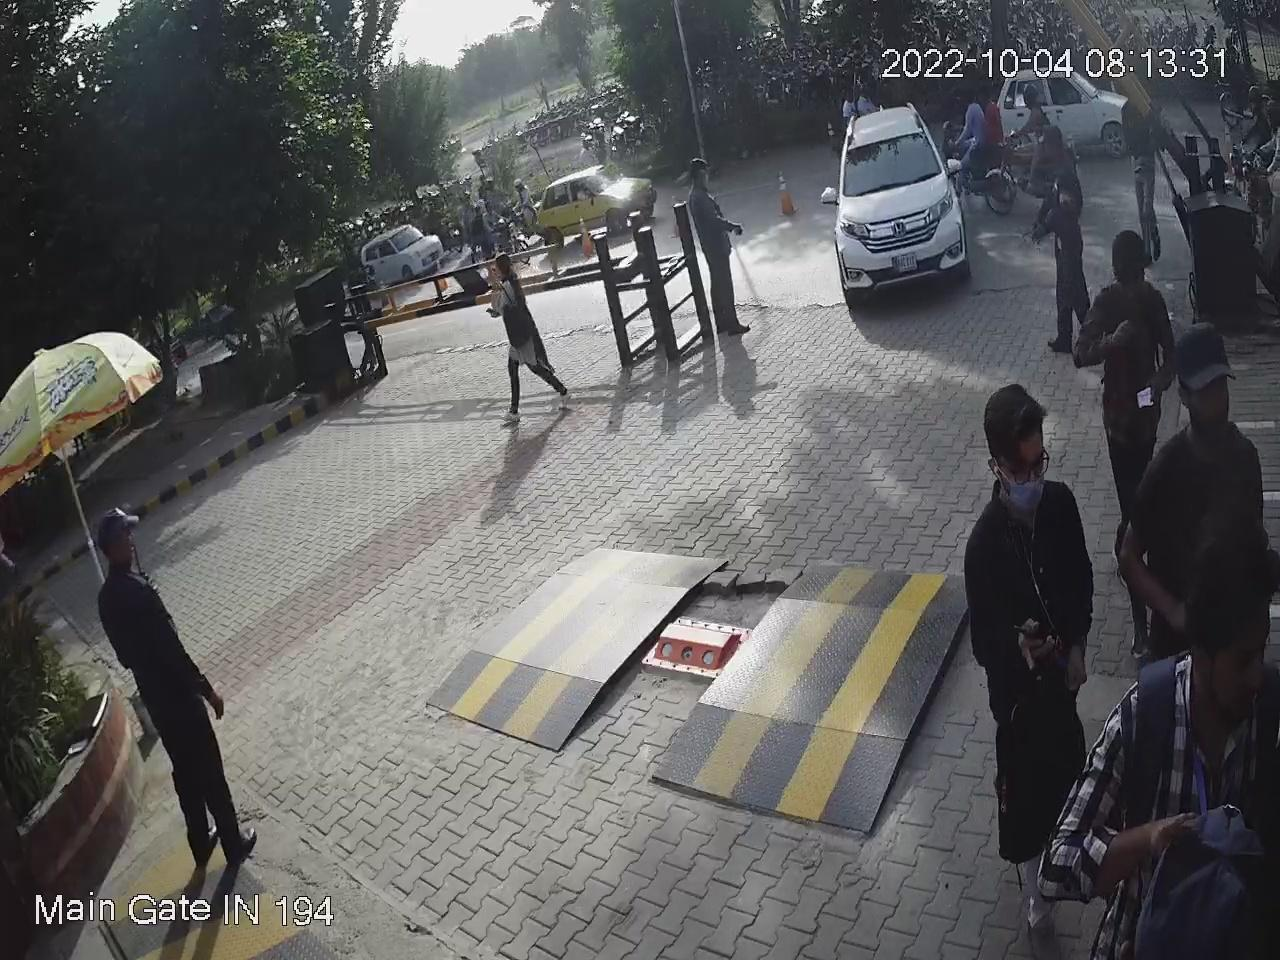windshield: (830, 132, 955, 203)
